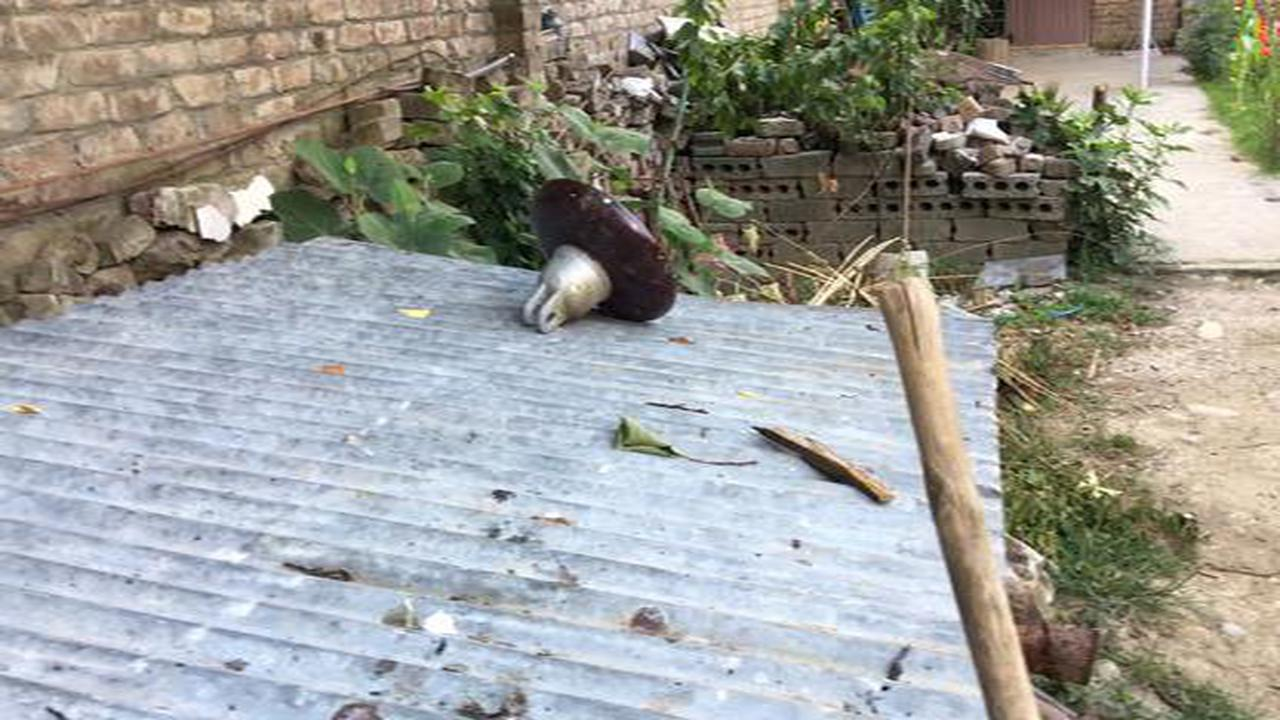insulator_disc: (518, 178, 683, 344)
